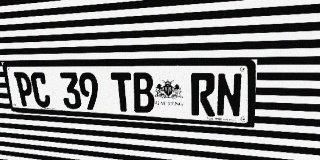3: (59, 72, 82, 109)
9: (78, 72, 101, 110)
B: (131, 73, 155, 113)
C: (30, 72, 52, 108)
N: (216, 73, 243, 118)
P: (14, 72, 35, 107)
R: (191, 73, 215, 117)
T: (110, 72, 134, 112)
